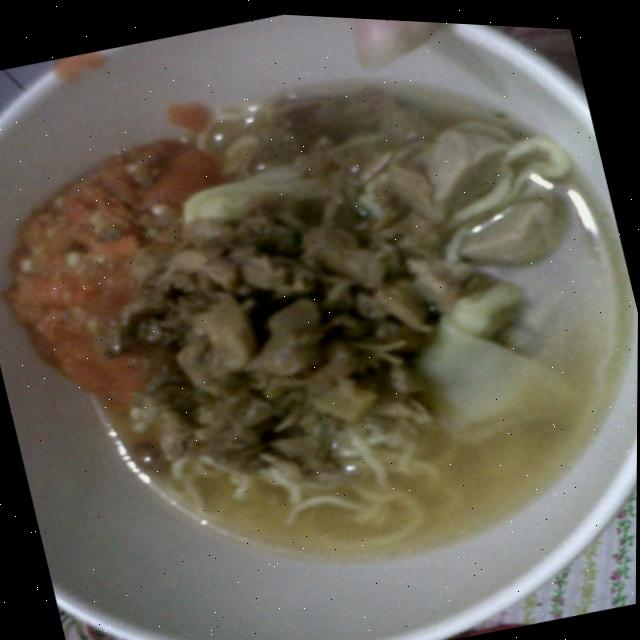面条主食: (0, 9, 640, 630)
